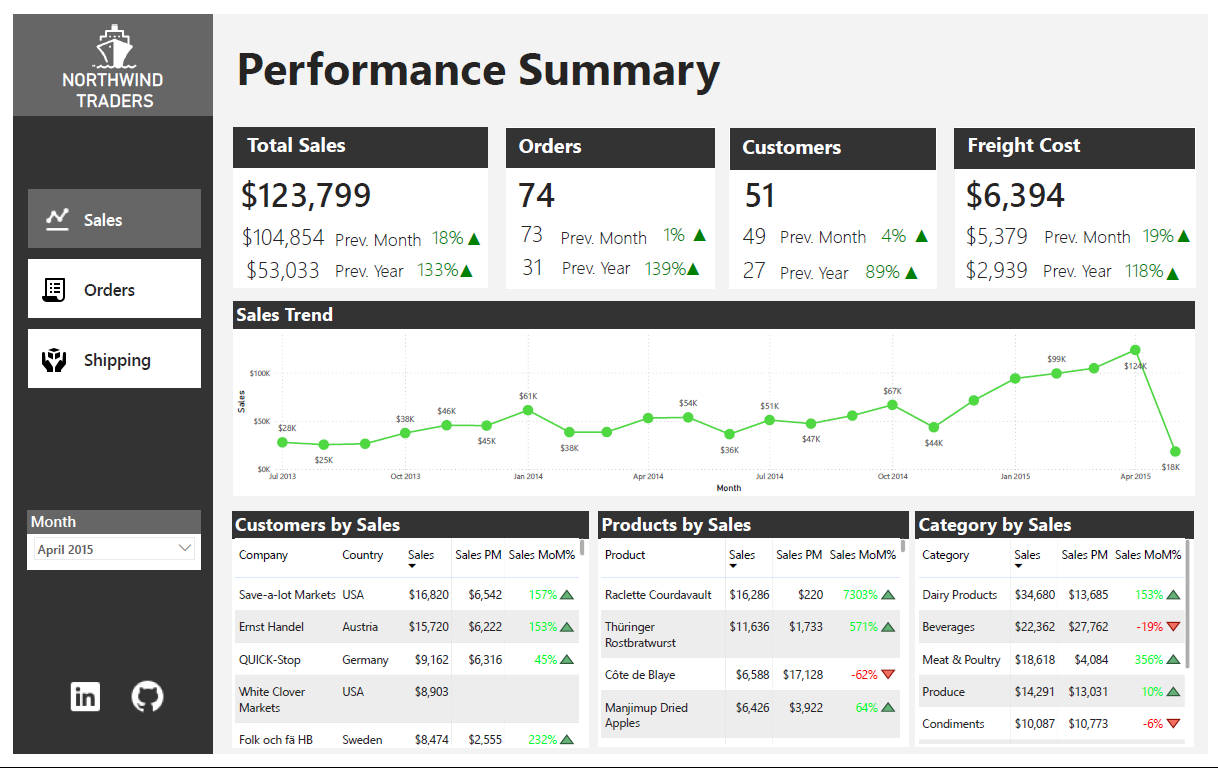

The page's visual inventory and layout, read from the dashboard file:
{"tool":"powerbi","page":{"name":"Sales","canvas":[1920,1188],"ordinal":0},"visuals":[{"type":"shape","box":[0,162.3,320.3,1088.5],"z":0},{"type":"shape","box":[0,0,320.3,162.3],"z":1000},{"type":"textbox","box":[353,28.9,856.8,117.7],"z":2000},{"type":"slicer","title":"Month","fields":{"Values":["DimDate.Date (bins)"]},"box":[21.6,798.5,279.1,93],"z":3000},{"type":"lineChart","title":"Sales Trend","fields":{"Y":["measure_table.sales total"],"Category":["DimDate.Date (bins)"]},"box":[352.7,461.2,1546.3,313],"z":4000},{"type":"tableEx","title":"Customers by Sales","fields":{"Values":["customers.companyName","customers.country","measure_table.sales total","measure_table.sales PreviousMonth","measure_table.sales MoM%"]},"box":[350.6,799.2,573.8,380.2],"z":5000},{"type":"tableEx","title":"Products by Sales","fields":{"Values":["products.productName","measure_table.sales total","measure_table.sales PreviousMonth","measure_table.sales MoM%"]},"box":[939.8,798.7,500,378],"z":6000},{"type":"tableEx","title":"Category by Sales","fields":{"Values":["categories.categoryName","measure_table.sales total","measure_table.sales PreviousMonth","measure_table.sales MoM%"]},"box":[1451.3,798.7,447,378],"z":7000},{"type":"image","box":[60.6,1060.3,108.2,73.6],"z":8000},{"type":"image","box":[160.1,1060.3,110.4,73.6],"z":9000},{"type":"pageNavigator","title":"Menu","box":[22.7,281,277.2,320],"z":10000},{"type":"image","box":[22.7,299.8,93.2,58],"z":11000},{"type":"image","box":[17.6,413.2,93.2,58],"z":12000},{"type":"image","box":[17.6,526.6,93.2,58],"z":13000},{"type":"image","box":[99.5,10.8,123.3,80.1],"z":14000},{"type":"textbox","box":[26,83,272.7,75.7],"z":15000},{"type":"shape","box":[352.5,181,409.5,257.1],"z":16000},{"type":"shape","box":[792.2,181.1,335,258.6],"z":17000},{"type":"shape","box":[1152,182.8,333,258.6],"z":18000},{"type":"shape","box":[1514.8,181,386,257.7],"z":19000},{"type":"card","fields":{"Values":["measure_table.sales total"]},"box":[350.7,241.2,235.9,90.9],"z":20000},{"type":"card","fields":{"Values":["measure_table.order total"]},"box":[785.5,244.5,110.4,82.2],"z":21000},{"type":"card","fields":{"Values":["measure_table.customer total"]},"box":[1157.7,253.2,84.4,67.1],"z":22000},{"type":"shape","box":[353.2,180.8,408.8,64],"z":23000},{"type":"shape","box":[792.1,181.6,335.5,64.5],"z":24000},{"type":"shape","box":[1152.8,183,330.5,64.9],"z":25000},{"type":"shape","box":[1514.5,182.9,385.5,64.5],"z":26000},{"type":"textbox","box":[807.2,181.9,260.1,64],"z":27000},{"type":"textbox","box":[1167.1,183.5,260.1,64],"z":28000},{"type":"textbox","box":[369.7,180.8,260.1,64],"z":29000},{"type":"textbox","box":[1528.8,181.5,260.1,64],"z":30000},{"type":"card","fields":{"Values":["measure_table.MoM% Sales"]},"box":[649.3,319.2,97.4,75.7],"z":31000},{"type":"card","fields":{"Values":["measure_table.Icon 1"]},"box":[718.6,343,43.3,32.5],"z":32000},{"type":"card","fields":{"Values":["measure_table.PreviousMonthnetprice"]},"box":[348.6,327.8,168.8,56.3],"z":33000},{"type":"card","fields":{"Values":["measure_table.order MoM%"]},"box":[1023.5,318.1,77.9,69.2],"z":34000},{"type":"card","fields":{"Values":["measure_table.order Icon 1"]},"box":[1082,335.4,43.3,34.6],"z":35000},{"type":"card","fields":{"Values":["measure_table.order PreviousMonth"]},"box":[798.5,324.6,71.4,54.1],"z":36000},{"type":"card","fields":{"Values":["measure_table.customer MoM%"]},"box":[1376.3,322.4,80.1,62.8],"z":37000},{"type":"card","fields":{"Values":["measure_table.customer Icon 1"]},"box":[1439,337.6,43.3,32.5],"z":38000},{"type":"card","fields":{"Values":["measure_table.customer PreviousMonth"]},"box":[1146.9,328.9,88.7,49.8],"z":39000},{"type":"card","fields":{"Values":["measure_table.Text"]},"box":[503.7,340.6,165.2,43.4],"z":40000},{"type":"card","fields":{"Values":["measure_table.Text"]},"box":[865,332.4,169.3,51.6],"z":41000},{"type":"card","fields":{"Values":["measure_table.Text"]},"box":[1216,332.4,173.4,49.5],"z":42000},{"type":"card","fields":{"Values":["measure_table.freight total"]},"box":[1514.8,246.7,192.6,80.1],"z":43000},{"type":"card","fields":{"Values":["measure_table.freight MoM%"]},"box":[1796.1,320.3,90.9,67.1],"z":44000},{"type":"card","fields":{"Values":["measure_table.freight Icon 1"]},"box":[1861,337.6,43.3,34.6],"z":45000},{"type":"card","fields":{"Values":["measure_table.freight PreviousMonth"]},"box":[1510.4,326.8,142.8,56.3],"z":46000},{"type":"card","fields":{"Values":["measure_table.Text"]},"box":[1645.4,332.4,165.2,49.5],"z":47000},{"type":"card","fields":{"Values":["measure_table.sales PreviousYear"]},"box":[357.2,381.9,151.5,54.1],"z":48000},{"type":"card","fields":{"Values":["measure_table.Text 2"]},"box":[489.9,386.7,164.6,51.6],"z":49000},{"type":"card","fields":{"Values":["measure_table.Text 2"]},"box":[854.8,380.8,164.6,53.5],"z":50000},{"type":"card","fields":{"Values":["measure_table.Text 2"]},"box":[1205.8,388.7,164.6,51.6],"z":51000},{"type":"card","fields":{"Values":["measure_table.Text 2"]},"box":[1628.3,386.7,166.6,51.6],"z":52000},{"type":"card","fields":{"Values":["measure_table.order PreviousYear"]},"box":[798.5,376.5,71.4,54.1],"z":53000},{"type":"card","fields":{"Values":["measure_table.customer PreviousYear"]},"box":[1146.9,385.2,88.7,49.8],"z":54000},{"type":"card","fields":{"Values":["measure_table.freight PreviousYear"]},"box":[1510.4,380.9,142.8,56.3],"z":55000},{"type":"card","fields":{"Values":["measure_table.sales YoY Icon"]},"box":[706.1,394.7,43.6,31.7],"z":56000},{"type":"card","fields":{"Values":["measure_table.freight YoY Icon"]},"box":[1842.9,399.1,43.3,32.5],"z":57000},{"type":"card","fields":{"Values":["measure_table.customer YoY Icon"]},"box":[1422,398.6,43.6,31.7],"z":58000},{"type":"card","fields":{"Values":["measure_table.order YoY Icon"]},"box":[1071,392.7,43.6,31.7],"z":59000},{"type":"card","fields":{"Values":["measure_table.sales YoY%"]},"box":[642.6,370.9,79.3,77.3],"z":60000},{"type":"card","fields":{"Values":["measure_table.order YoY%"]},"box":[1009.5,368.9,77.3,75.4],"z":61000},{"type":"card","fields":{"Values":["measure_table.customer YoY%"]},"box":[1359,374.4,77.9,75.7],"z":62000},{"type":"card","fields":{"Values":["measure_table.freight YoY%"]},"box":[1780.2,373.1,77.9,75.7],"z":63000}]}

Visuals, with their boxes on the page's 1920x1188 design canvas (x1, y1, x2, y2). These are canvas units, not pixel positions in the 1218x768 screenshot, which may show the page scaled, cropped or inside an application window:
shape: <box>0,162,320,1251</box>
shape: <box>0,0,320,162</box>
textbox: <box>353,29,1210,147</box>
"Month" slicer: <box>22,798,301,892</box>
"Sales Trend" lineChart: <box>353,461,1899,774</box>
"Customers by Sales" tableEx: <box>351,799,924,1179</box>
"Products by Sales" tableEx: <box>940,799,1440,1177</box>
"Category by Sales" tableEx: <box>1451,799,1898,1177</box>
image: <box>61,1060,169,1134</box>
image: <box>160,1060,270,1134</box>
"Menu" pageNavigator: <box>23,281,300,601</box>
image: <box>23,300,116,358</box>
image: <box>18,413,111,471</box>
image: <box>18,527,111,585</box>
image: <box>100,11,223,91</box>
textbox: <box>26,83,299,159</box>
shape: <box>352,181,762,438</box>
shape: <box>792,181,1127,440</box>
shape: <box>1152,183,1485,441</box>
shape: <box>1515,181,1901,439</box>
card - measure_table.sales total: <box>351,241,587,332</box>
card - measure_table.order total: <box>786,244,896,327</box>
card - measure_table.customer total: <box>1158,253,1242,320</box>
shape: <box>353,181,762,245</box>
shape: <box>792,182,1128,246</box>
shape: <box>1153,183,1483,248</box>
shape: <box>1514,183,1900,247</box>
textbox: <box>807,182,1067,246</box>
textbox: <box>1167,184,1427,248</box>
textbox: <box>370,181,630,245</box>
textbox: <box>1529,182,1789,246</box>
card - measure_table.MoM% Sales: <box>649,319,747,395</box>
card - measure_table.Icon 1: <box>719,343,762,376</box>
card - measure_table.PreviousMonthnetprice: <box>349,328,517,384</box>
card - measure_table.order MoM%: <box>1024,318,1101,387</box>
card - measure_table.order Icon 1: <box>1082,335,1125,370</box>
card - measure_table.order PreviousMonth: <box>798,325,870,379</box>
card - measure_table.customer MoM%: <box>1376,322,1456,385</box>
card - measure_table.customer Icon 1: <box>1439,338,1482,370</box>
card - measure_table.customer PreviousMonth: <box>1147,329,1236,379</box>
card - measure_table.Text: <box>504,341,669,384</box>
card - measure_table.Text: <box>865,332,1034,384</box>
card - measure_table.Text: <box>1216,332,1389,382</box>
card - measure_table.freight total: <box>1515,247,1707,327</box>
card - measure_table.freight MoM%: <box>1796,320,1887,387</box>
card - measure_table.freight Icon 1: <box>1861,338,1904,372</box>
card - measure_table.freight PreviousMonth: <box>1510,327,1653,383</box>
card - measure_table.Text: <box>1645,332,1811,382</box>
card - measure_table.sales PreviousYear: <box>357,382,509,436</box>
card - measure_table.Text 2: <box>490,387,654,438</box>
card - measure_table.Text 2: <box>855,381,1019,434</box>
card - measure_table.Text 2: <box>1206,389,1370,440</box>
card - measure_table.Text 2: <box>1628,387,1795,438</box>
card - measure_table.order PreviousYear: <box>798,376,870,431</box>
card - measure_table.customer PreviousYear: <box>1147,385,1236,435</box>
card - measure_table.freight PreviousYear: <box>1510,381,1653,437</box>
card - measure_table.sales YoY Icon: <box>706,395,750,426</box>
card - measure_table.freight YoY Icon: <box>1843,399,1886,432</box>
card - measure_table.customer YoY Icon: <box>1422,399,1466,430</box>
card - measure_table.order YoY Icon: <box>1071,393,1115,424</box>
card - measure_table.sales YoY%: <box>643,371,722,448</box>
card - measure_table.order YoY%: <box>1010,369,1087,444</box>
card - measure_table.customer YoY%: <box>1359,374,1437,450</box>
card - measure_table.freight YoY%: <box>1780,373,1858,449</box>
